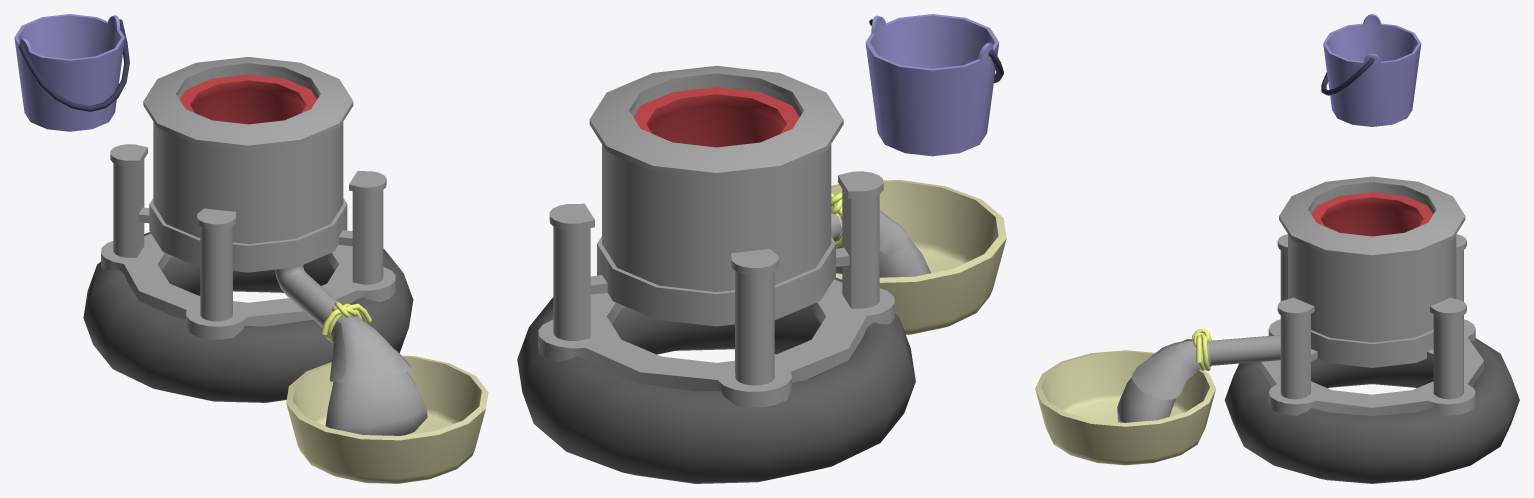
The model's file is blender.fbx.
The picture shows the model from 3 angles, left to right: view 1: azimuth 30°, elevation 25°; view 2: azimuth 150°, elevation 25°; view 3: azimuth 270°, elevation 25°; orthographic projection. The views are drawn at different scales.
Parts seen in each view (by area): view 1: 圓形.001, blender, 圓形.006, 圓形.003, 圓形.004, 立方體.002, 圓形.002, 立方體.003, Nurbs路徑; view 2: 圓形.001, blender, 圓形.004, 圓形.003, 圓形.002, 圓形.006, 立方體.003, 立方體.002; view 3: 圓形.001, blender, 圓形.006, 圓形.004, 圓形.003, 圓形.002, 立方體.002, 立方體.003.
Boxes of the visible parts, bbox=[...] form: 圓形.001: bbox=[138, 57, 353, 327]; blender: bbox=[83, 232, 413, 402]; 圓形.006: bbox=[286, 355, 488, 483]; 圓形.003: bbox=[110, 144, 386, 321]; 圓形.004: bbox=[14, 14, 124, 131]; 立方體.002: bbox=[321, 301, 427, 435]; 圓形.002: bbox=[101, 233, 395, 339]; 立方體.003: bbox=[179, 74, 316, 124]; Nurbs路徑: bbox=[18, 19, 129, 111]; 圓形.001: bbox=[589, 65, 849, 326]; blender: bbox=[517, 277, 915, 483]; 圓形.004: bbox=[865, 14, 999, 156]; 圓形.003: bbox=[549, 171, 883, 385]; 圓形.002: bbox=[538, 279, 894, 407]; 圓形.006: bbox=[831, 180, 1006, 334]; 立方體.003: bbox=[633, 87, 799, 147]; 立方體.002: bbox=[831, 192, 930, 277]; 圓形.001: bbox=[1208, 176, 1465, 367]; blender: bbox=[1224, 338, 1519, 483]; 圓形.006: bbox=[1035, 350, 1215, 465]; 圓形.004: bbox=[1323, 14, 1421, 126]; 圓形.003: bbox=[1277, 234, 1466, 399]; 圓形.002: bbox=[1260, 319, 1483, 415]; 立方體.002: bbox=[1117, 329, 1211, 422]; 立方體.003: bbox=[1311, 192, 1432, 236].
Size of the model in its own units: 19.67 by 24.89 by 18.3.
